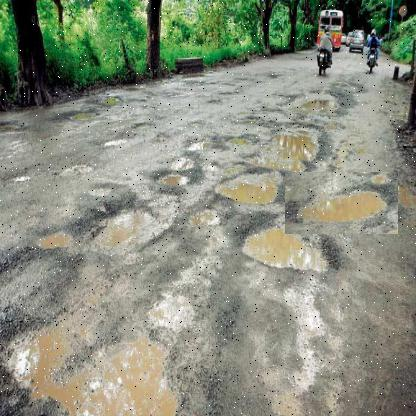pothole_water: (222, 219, 337, 287), (284, 172, 398, 235), (27, 210, 77, 270)
pothole_water_m: (145, 149, 210, 199)
